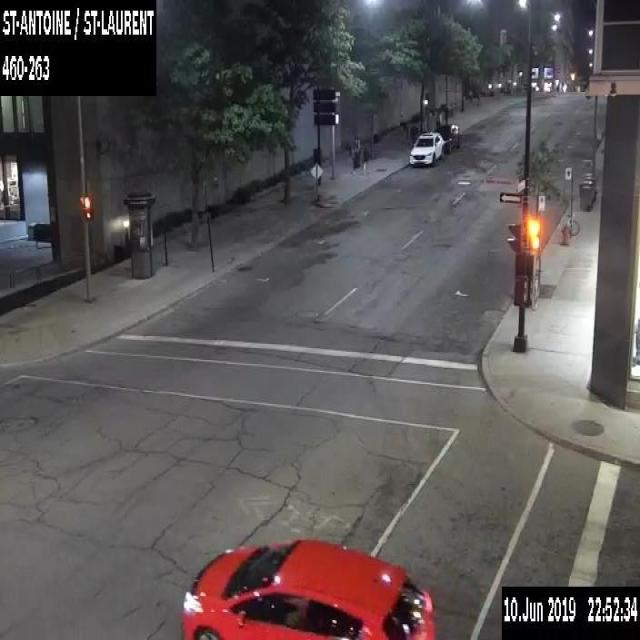vehicle: (181, 536, 436, 639), (408, 131, 444, 166), (434, 123, 459, 153)
